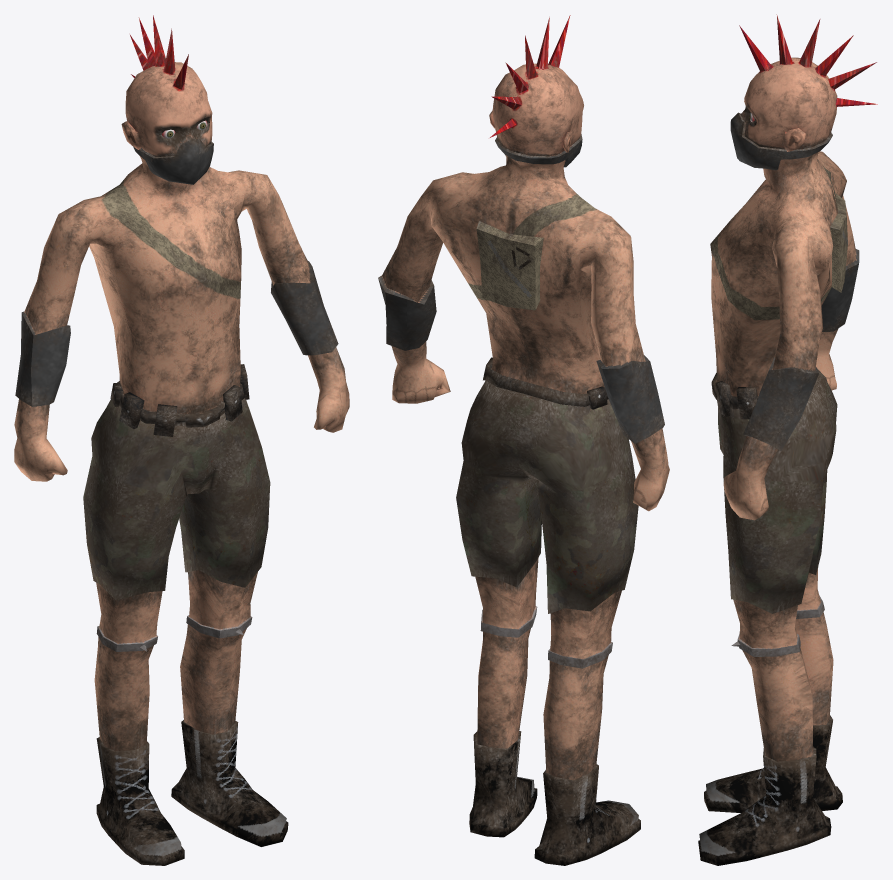
Rendered from Anim_disparar_pistola_npc2.0034.obj.
3 renders of one model, left to right at view 1: azimuth 30°, elevation 25°; view 2: azimuth 150°, elevation 25°; view 3: azimuth 270°, elevation 25°, orthographic. The views are drawn at different scales.
Parts seen in each view (by area): view 1: polySurface1; view 2: polySurface1; view 3: polySurface1.
Part boxes in pixels (x1,y1,x2,y2): polySurface1: (14, 15, 349, 865); polySurface1: (378, 15, 669, 865); polySurface1: (698, 14, 877, 865).
Bounding box in the file's own units: 3.99 × 10.27 × 2.08.
Materials: 2 (2 with a texture image).
